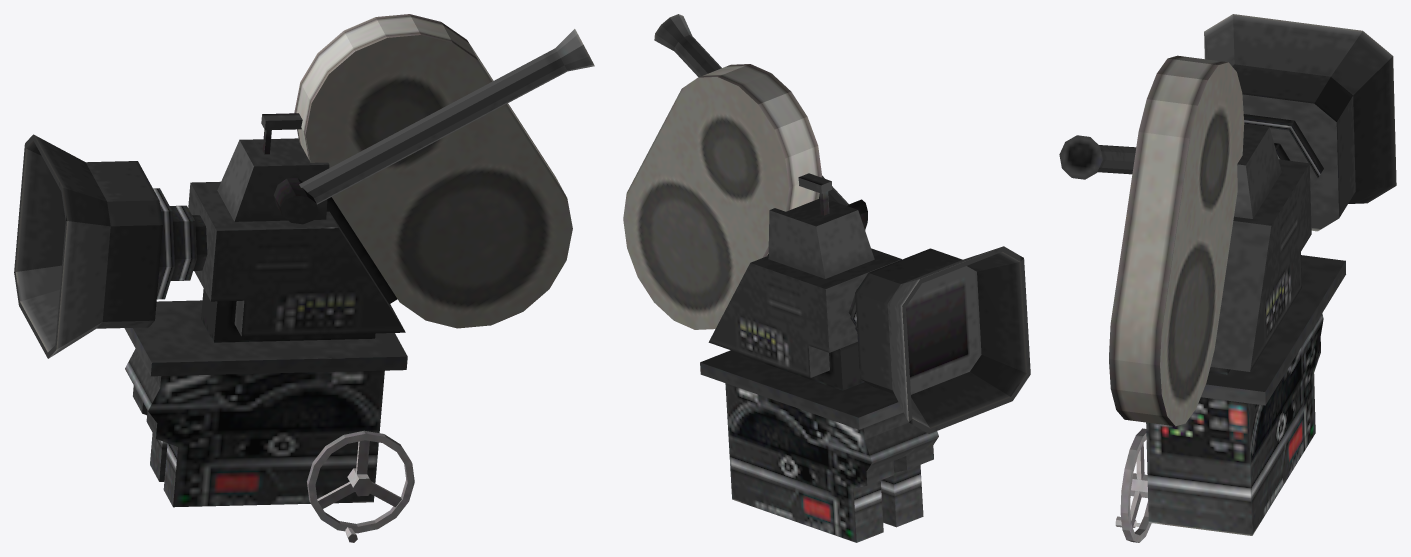
Rendered from career.ico.obj.
3 renders of one model, left to right at view 1: azimuth 30°, elevation 25°; view 2: azimuth 150°, elevation 25°; view 3: azimuth 270°, elevation 25°, orthographic. The views are drawn at different scales.
Size of the model in its own units: 4.32 by 4.06 by 2.49.
Materials: 1 (1 with a texture image).
